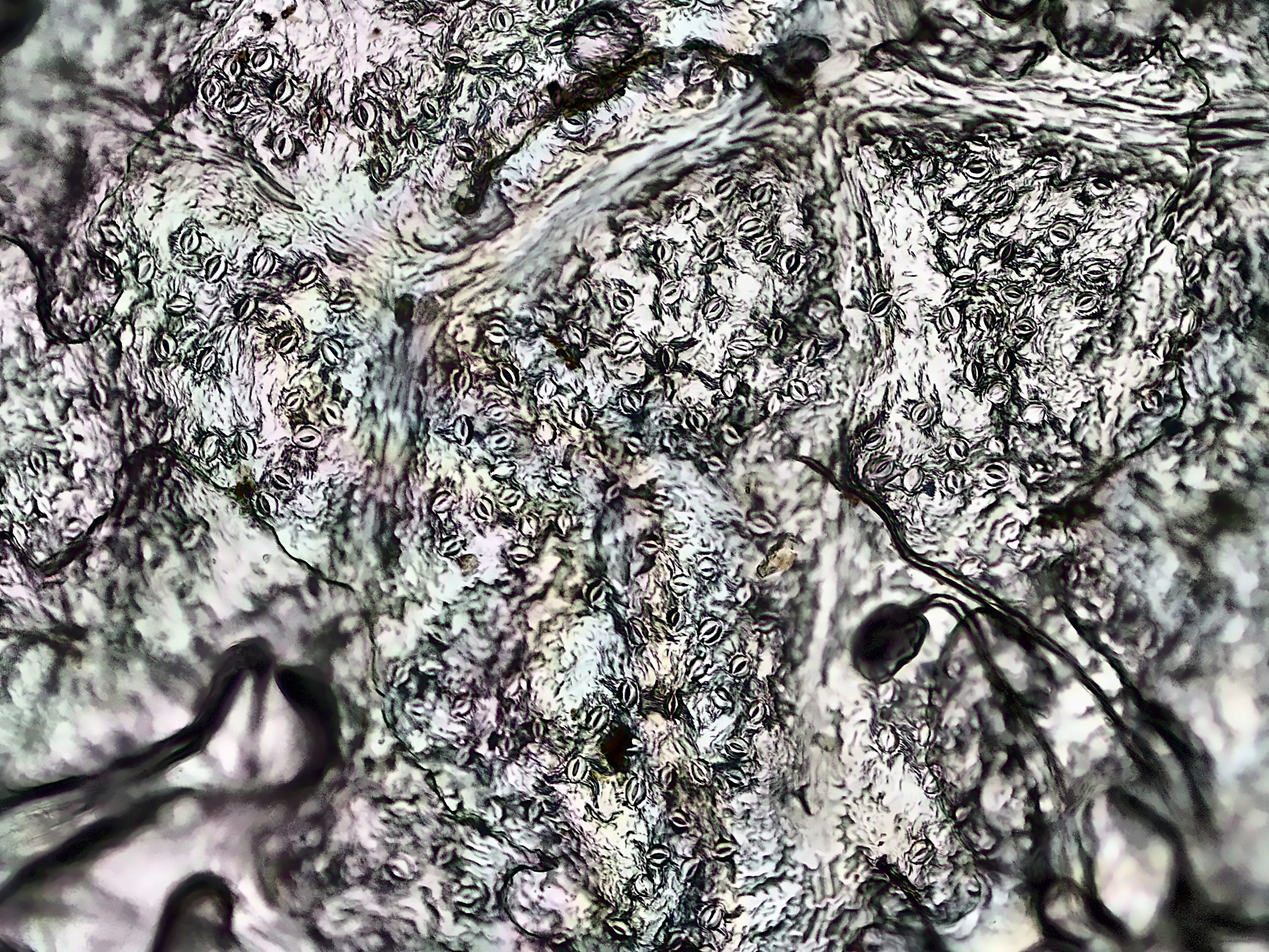stomata: (272, 129, 296, 162), (268, 76, 294, 106), (353, 98, 377, 130), (907, 838, 935, 865), (494, 361, 520, 390), (293, 425, 323, 449), (415, 14, 445, 38), (936, 213, 967, 236), (877, 723, 899, 755), (939, 304, 964, 332), (198, 432, 221, 462), (309, 106, 331, 137), (617, 678, 639, 709), (746, 514, 777, 536), (697, 903, 723, 929), (532, 418, 557, 445), (406, 125, 427, 157), (698, 617, 722, 645), (585, 706, 609, 734), (154, 331, 177, 360), (564, 755, 587, 784), (234, 429, 256, 459), (720, 369, 742, 399), (606, 917, 636, 939), (223, 53, 244, 84), (532, 305, 557, 331), (753, 236, 779, 261), (451, 138, 478, 162), (612, 332, 640, 355), (902, 464, 924, 493), (32, 492, 54, 521), (180, 226, 201, 256), (566, 321, 587, 351), (234, 296, 259, 321), (676, 198, 701, 223), (255, 491, 279, 517), (490, 6, 514, 32), (988, 185, 1014, 209), (1048, 223, 1074, 247), (986, 381, 1012, 405), (869, 455, 895, 479), (627, 617, 649, 645), (948, 266, 976, 288), (206, 254, 227, 283), (134, 255, 155, 284), (165, 295, 194, 316), (224, 91, 249, 115), (28, 447, 48, 477), (452, 415, 472, 445), (946, 439, 970, 464), (1021, 402, 1046, 426), (710, 686, 734, 711), (993, 346, 1016, 372), (645, 843, 671, 866), (252, 48, 274, 75), (201, 77, 223, 104), (254, 250, 276, 277), (322, 338, 344, 365), (656, 346, 678, 373), (1038, 261, 1065, 283), (1183, 252, 1202, 283), (370, 154, 391, 182), (483, 324, 511, 345), (544, 32, 572, 53), (476, 74, 499, 99), (100, 220, 125, 243), (274, 330, 299, 353), (270, 466, 293, 491), (702, 297, 725, 322), (984, 464, 1009, 487), (724, 735, 749, 758), (195, 346, 217, 372), (751, 182, 773, 208), (454, 365, 473, 395), (518, 91, 537, 121), (519, 511, 540, 538), (437, 535, 464, 556), (528, 717, 549, 744), (489, 461, 517, 481), (626, 776, 646, 804), (712, 840, 740, 860), (295, 261, 319, 284), (660, 281, 683, 305), (701, 238, 724, 262), (911, 402, 934, 426), (321, 401, 343, 426), (975, 307, 997, 332), (730, 653, 752, 678), (374, 64, 395, 90), (330, 292, 356, 313), (572, 404, 593, 430), (587, 579, 608, 605), (945, 469, 966, 495), (555, 507, 573, 537), (994, 238, 1014, 265), (692, 760, 712, 787), (508, 545, 536, 564), (727, 339, 755, 358), (962, 160, 990, 179), (1082, 263, 1110, 282), (963, 358, 982, 386), (664, 692, 683, 720), (549, 465, 573, 487), (720, 421, 742, 445), (561, 112, 585, 134), (677, 857, 699, 881), (621, 389, 642, 414), (917, 155, 938, 180), (443, 49, 469, 69), (89, 386, 109, 412), (653, 239, 673, 265), (572, 279, 592, 305), (431, 491, 454, 513), (536, 377, 558, 400), (696, 556, 718, 579), (716, 176, 738, 199), (863, 428, 886, 450), (723, 765, 745, 788), (767, 318, 785, 346), (870, 294, 891, 318), (1142, 390, 1163, 414), (452, 693, 473, 717), (1001, 285, 1026, 305), (657, 764, 677, 789), (669, 808, 689, 833), (636, 538, 662, 557), (799, 337, 818, 363), (1033, 159, 1062, 176), (739, 219, 766, 237), (787, 379, 809, 401), (420, 96, 441, 119), (504, 50, 525, 73), (634, 874, 655, 897), (733, 582, 754, 605), (687, 410, 707, 434), (666, 607, 686, 631), (1013, 317, 1038, 336), (964, 134, 989, 153), (475, 496, 493, 522), (612, 290, 634, 311), (669, 574, 692, 594), (590, 10, 613, 30), (688, 655, 708, 678), (490, 431, 513, 451), (485, 404, 510, 422), (780, 247, 798, 272), (1180, 309, 1198, 334), (99, 252, 116, 278), (11, 523, 28, 549), (1000, 520, 1021, 541), (703, 453, 726, 472), (1075, 293, 1098, 312), (603, 480, 622, 503), (754, 614, 778, 632), (1089, 178, 1114, 195), (154, 420, 173, 442), (988, 435, 1007, 457), (623, 432, 642, 454), (750, 699, 766, 724), (497, 487, 519, 505), (286, 391, 303, 412), (1030, 472, 1051, 486)
